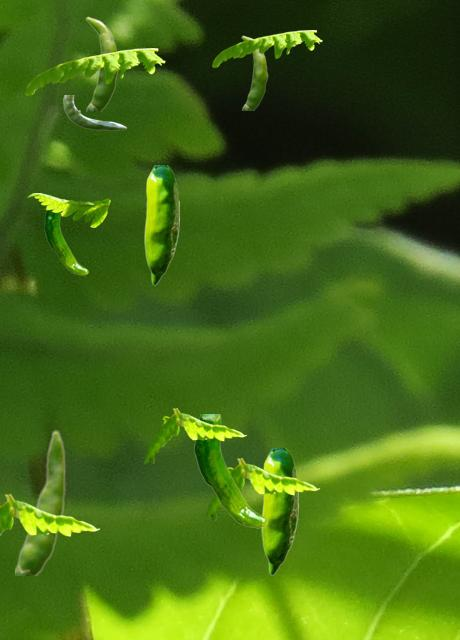green_chili: (194, 414, 266, 527), (15, 429, 65, 574), (261, 448, 297, 574), (144, 165, 178, 284), (85, 16, 118, 110), (44, 210, 87, 274), (63, 95, 125, 129), (241, 35, 267, 109)
